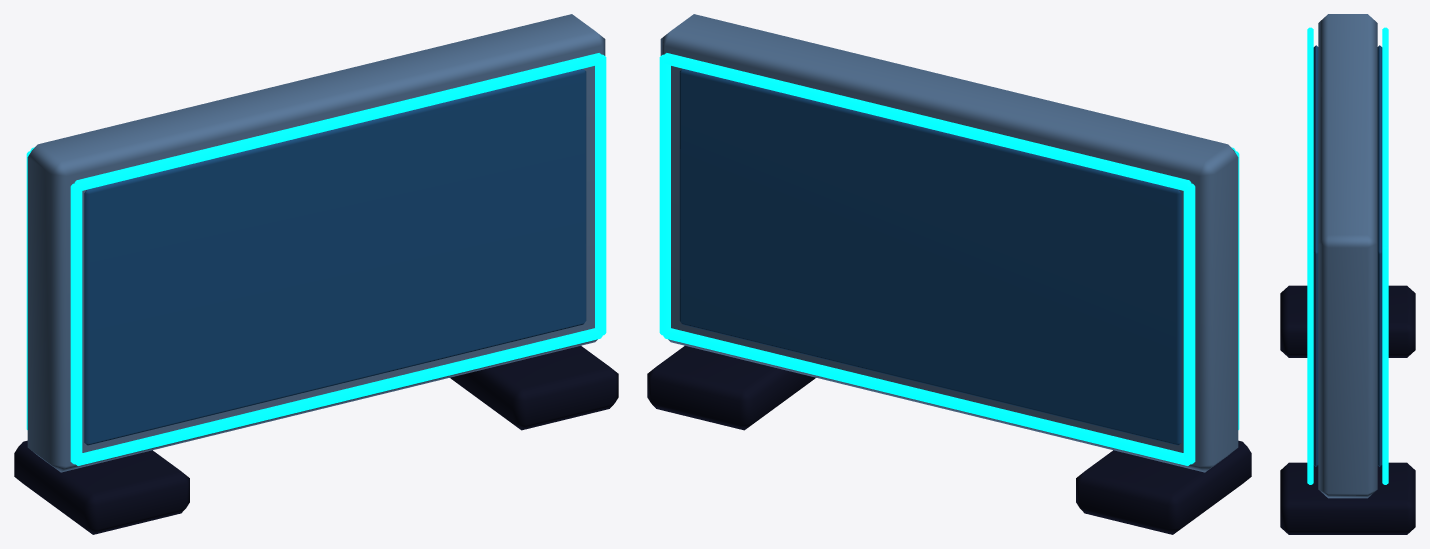
Rendered from NT_Reflector_Cyan.fbx.
The picture shows the model from 3 angles, left to right: view 1: azimuth 30°, elevation 25°; view 2: azimuth 150°, elevation 25°; view 3: azimuth 270°, elevation 25°; orthographic projection. The views are drawn at different scales.
Parts seen in each view (by area): view 1: NT_Reflector_Cyan__ReflectorMesh; view 2: NT_Reflector_Cyan__ReflectorMesh; view 3: NT_Reflector_Cyan__ReflectorMesh.
Boxes of the visible parts, x1,y1,x2,y2 form: NT_Reflector_Cyan__ReflectorMesh: (14, 14, 618, 534); NT_Reflector_Cyan__ReflectorMesh: (647, 14, 1251, 534); NT_Reflector_Cyan__ReflectorMesh: (1280, 14, 1415, 534).
Size of the model in its own units: 2.2 by 1.36 by 0.55.
